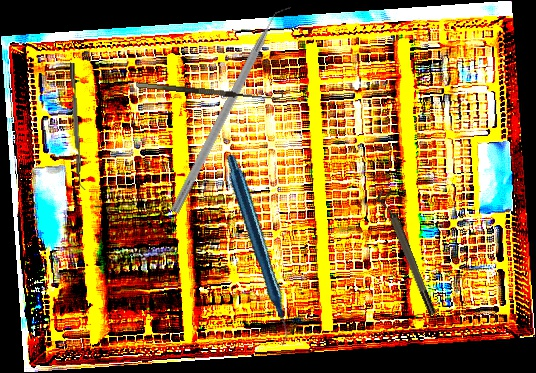Chopper: (170, 0, 297, 220), (69, 62, 88, 191)
Fixation Ring: (374, 187, 439, 319)
Handpiece: (173, 153, 340, 347)
Hook Surgical: (135, 74, 284, 103)
